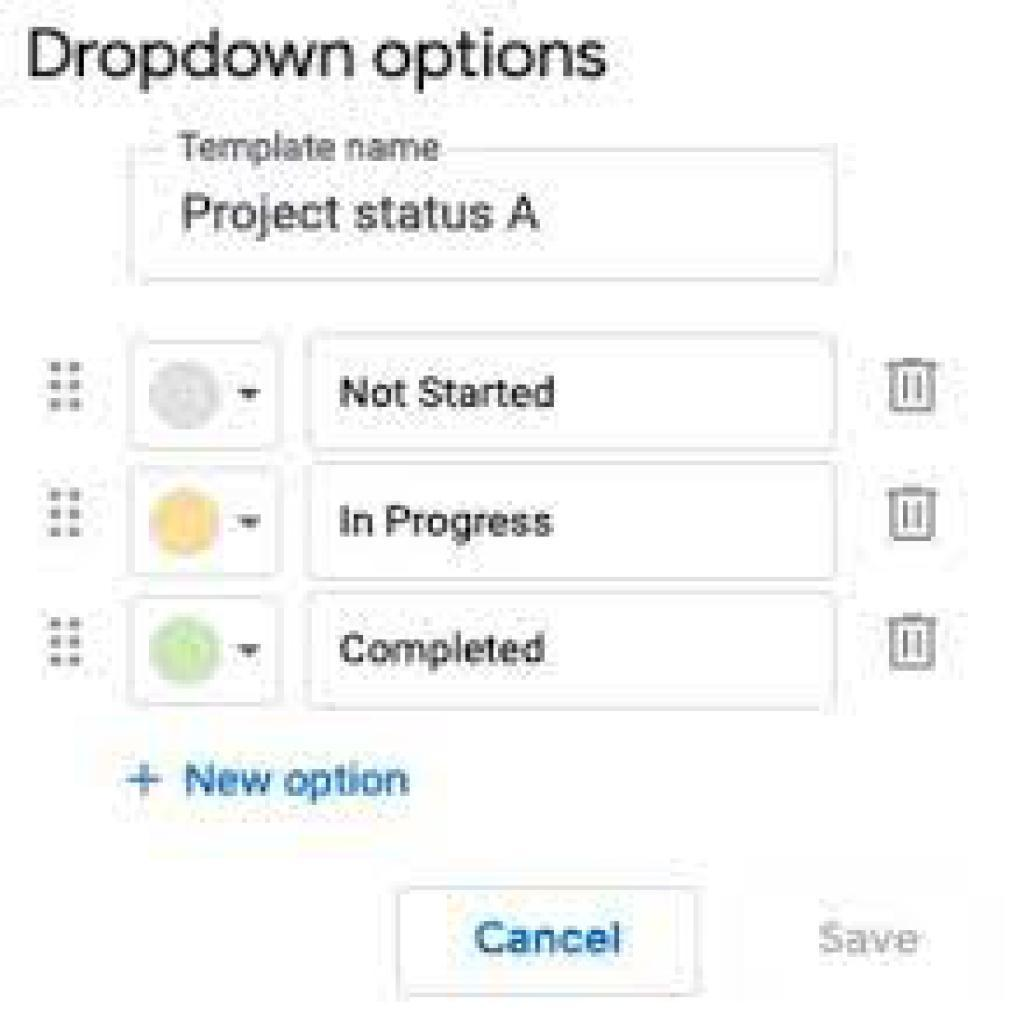button: (393, 886, 700, 997)
icon: (875, 348, 946, 424), (878, 609, 946, 682), (38, 480, 100, 558), (883, 473, 945, 544), (38, 346, 91, 423), (38, 607, 88, 674)
input: (128, 148, 834, 279), (304, 328, 837, 454), (304, 461, 838, 581), (308, 592, 837, 711)
label: (123, 752, 412, 811), (795, 904, 933, 959)
